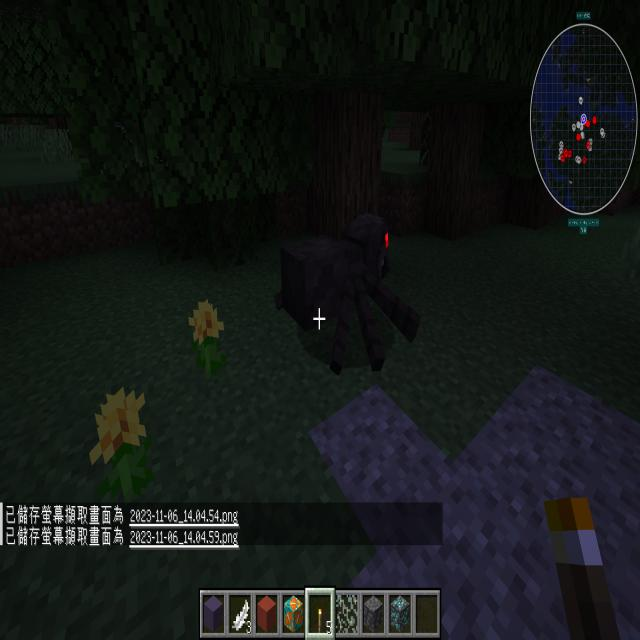Spider: (259, 189, 436, 390)
